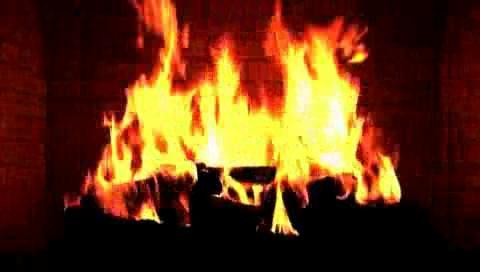fire: (110, 17, 379, 212)
